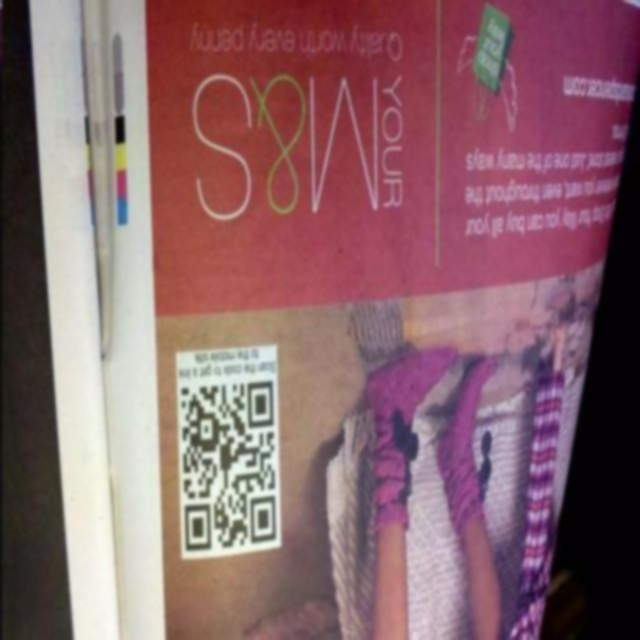qr-code: (182, 383, 276, 552)
